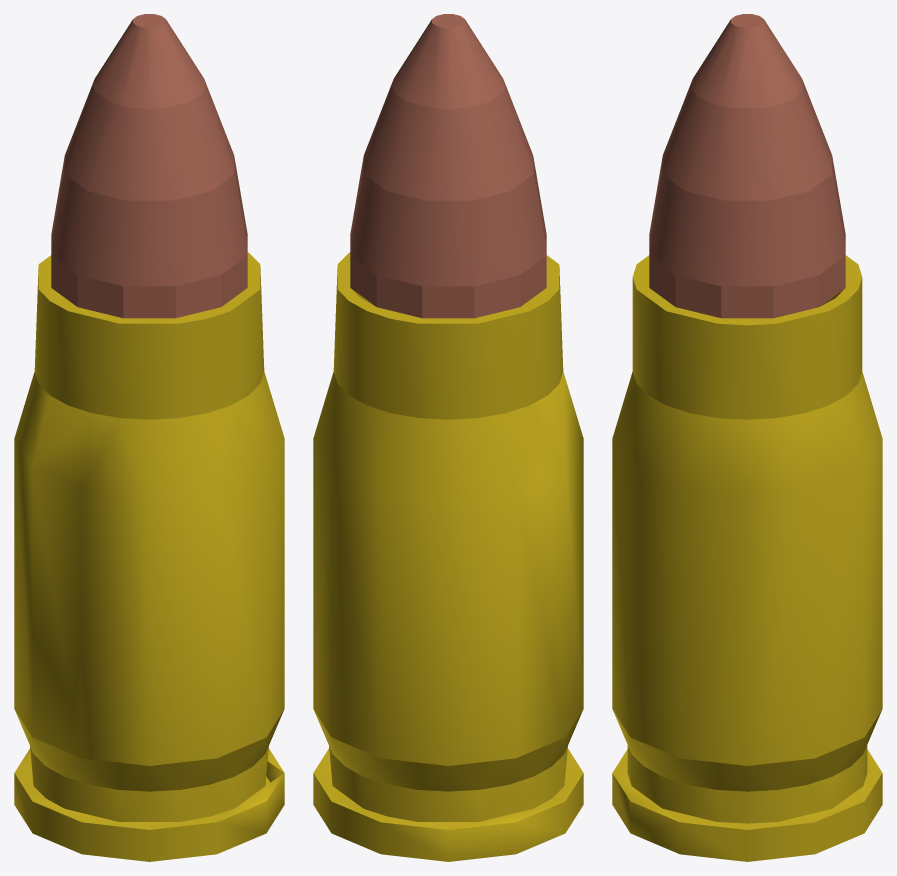
Rendered from ammo_machinegun.obj.
The picture shows the model from 3 angles, left to right: view 1: azimuth 30°, elevation 25°; view 2: azimuth 150°, elevation 25°; view 3: azimuth 270°, elevation 25°; orthographic projection.
Visible parts, largest first — view 1: ammo_machinegun; view 2: ammo_machinegun; view 3: ammo_machinegun.
Boxes of the visible parts, x1,y1,x2,y2 form: ammo_machinegun: [14, 14, 284, 861]; ammo_machinegun: [313, 14, 583, 861]; ammo_machinegun: [612, 14, 882, 861].
Size of the model in its own units: 0.00459 by 0.0147 by 0.00459.
